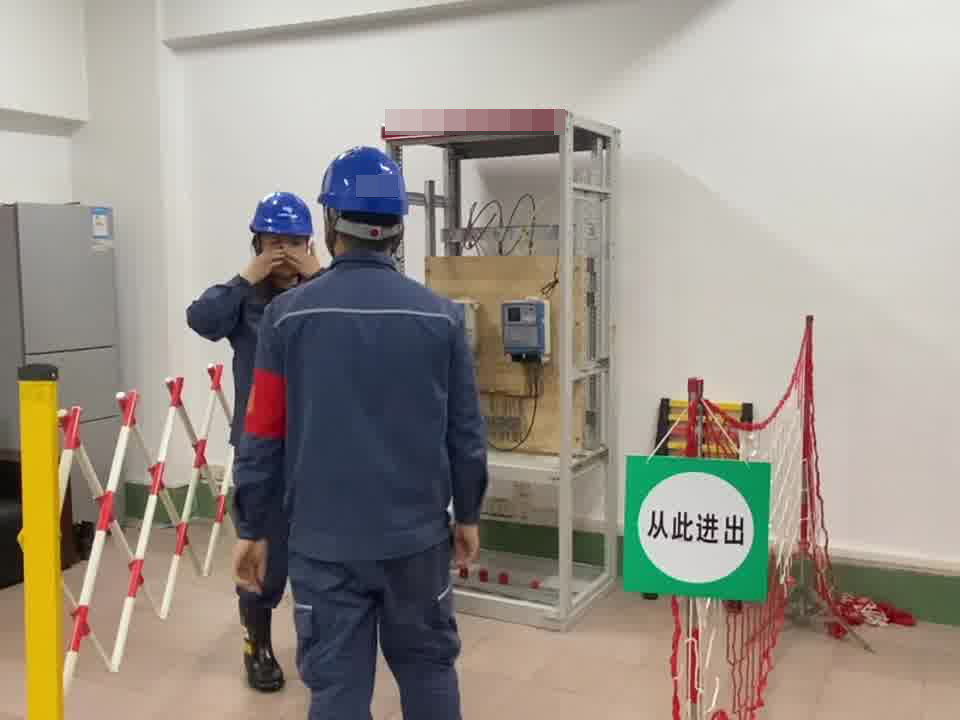badge: (244, 370, 290, 440)
downsuit: (289, 566, 471, 720)
halt: (319, 145, 413, 256), (244, 191, 318, 281)
hand: (232, 539, 274, 592), (454, 523, 485, 573), (247, 248, 286, 284), (286, 241, 323, 278)
intosign: (617, 453, 771, 603)
person: (236, 136, 499, 720), (189, 188, 326, 719)
shoe: (239, 599, 286, 696)
upsuit: (227, 260, 486, 555)
